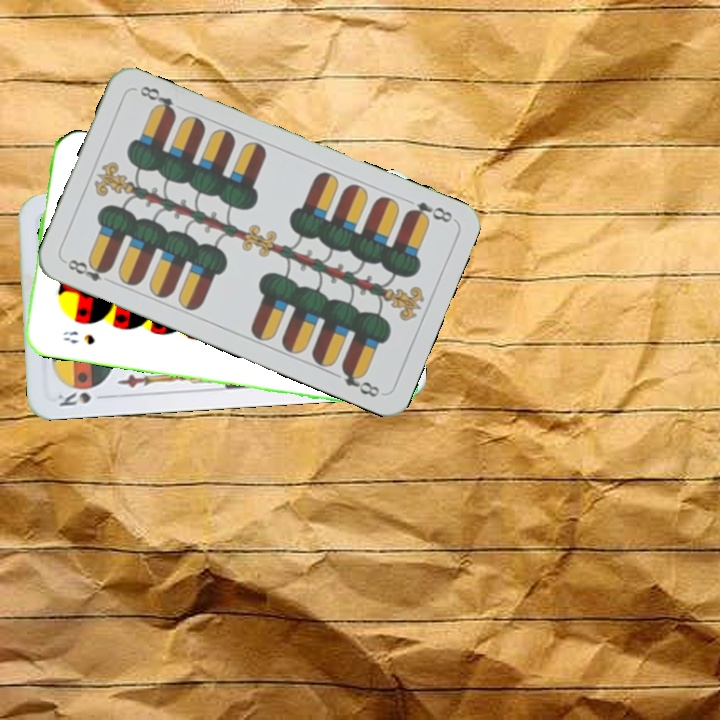E8: (60, 255, 113, 285), (402, 197, 455, 226)
S8: (59, 326, 97, 347)
SK: (54, 388, 94, 409)
